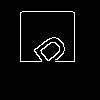P: (25, 25, 79, 81)
